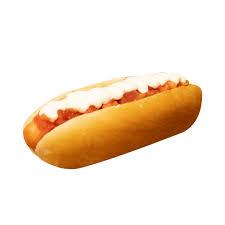Completos: (22, 65, 199, 176)
